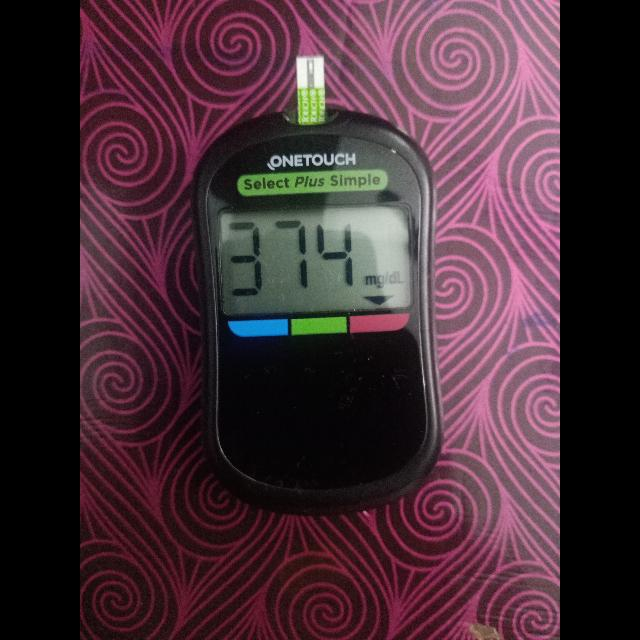Glucose-Meter: (194, 57, 442, 513)
